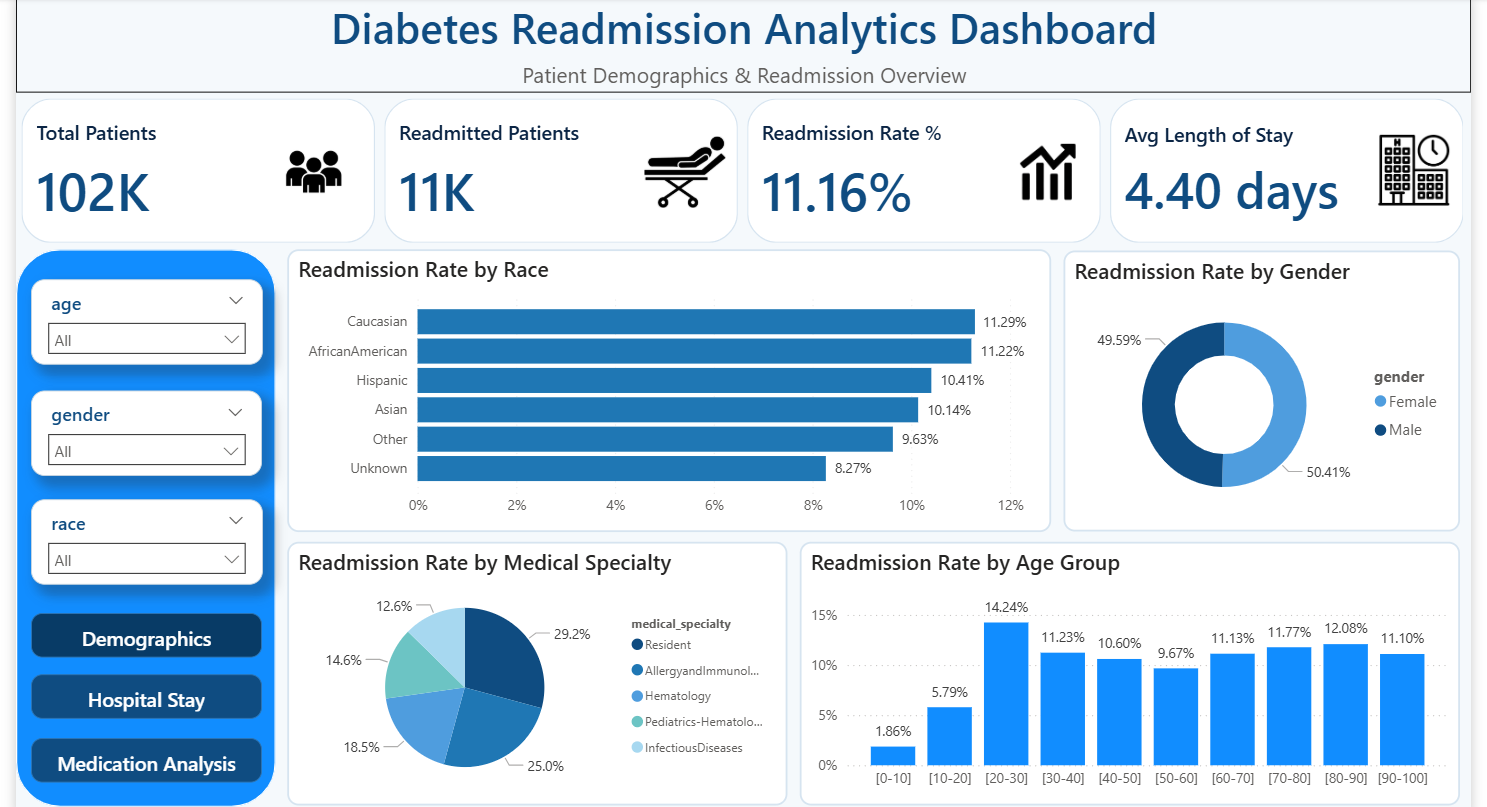

The page's visual inventory and layout, read from the dashboard file:
{"tool":"powerbi","page":{"name":"Demographics","canvas":[1280,720],"ordinal":0},"visuals":[{"type":"textbox","title":"Diabetes Readmission Analytics Dashboard","box":[0,0,1279.9,83.6],"z":0},{"type":"cardVisual","fields":{"Data":["diabetes_readmission.Total Patients","diabetes_readmission.Readmitted Patients","diabetes_readmission.Readmission Rate %","diabetes_readmission.Avg Length of Stay (Display)"]},"box":[0,83.6,1279.9,137.4],"z":1000},{"type":"clusteredColumnChart","title":"Readmission Rate by Age Group ","fields":{"Category":["diabetes_readmission.age"],"Y":["diabetes_readmission.Readmission Rate %"]},"box":[689.4,478.3,580.6,232],"z":2000},{"type":"barChart","title":"Readmission Rate by Race","fields":{"Y":["diabetes_readmission.Readmission Rate %"],"Category":["diabetes_readmission.race"]},"box":[238.8,220.7,672.4,249.1],"z":3000},{"type":"donutChart","title":"Readmission Rate by Gender","fields":{"Category":["diabetes_readmission.gender"],"Y":["diabetes_readmission.Readmission Rate %"]},"box":[921.4,222.1,348.6,247.4],"z":4000},{"type":"pieChart","title":"Readmission Rate  by Medical Specialty","fields":{"Category":["diabetes_readmission.medical_specialty"],"Y":["diabetes_readmission.Readmission Rate %"]},"box":[238.8,478.8,440.1,232.3],"z":5000},{"type":"shape","box":[0,220.7,228.4,490.4],"z":6000},{"type":"slicer","fields":{"Values":["diabetes_readmission.age"]},"box":[12.9,247.8,203.9,74.9],"z":7000},{"type":"slicer","fields":{"Values":["diabetes_readmission.gender"]},"box":[13.3,345,203.4,75.1],"z":8000},{"type":"slicer","fields":{"Values":["diabetes_readmission.race"]},"box":[12.9,441.4,203.9,74.9],"z":9000},{"type":"actionButton","box":[13.2,541,203.4,39.6],"z":10000},{"type":"actionButton","box":[13.2,650.9,203.4,39.6],"z":11000},{"type":"actionButton","box":[13.2,594.9,203.4,39.6],"z":12000}]}

Visuals, with their boxes on the page's 1280x720 design canvas (x1, y1, x2, y2). These are canvas units, not pixel positions in the 1487x807 screenshot, which may show the page scaled, cropped or inside an application window:
"Diabetes Readmission Analytics Dashboard" textbox: BBox(0, 0, 1280, 84)
cardVisual - diabetes_readmission.Total Patients x diabetes_readmission.Readmitted Patients: BBox(0, 84, 1280, 221)
"Readmission Rate by Age Group " clusteredColumnChart: BBox(689, 478, 1270, 710)
"Readmission Rate by Race" barChart: BBox(239, 221, 911, 470)
"Readmission Rate by Gender" donutChart: BBox(921, 222, 1270, 470)
"Readmission Rate  by Medical Specialty" pieChart: BBox(239, 479, 679, 711)
shape: BBox(0, 221, 228, 711)
slicer - diabetes_readmission.age: BBox(13, 248, 217, 323)
slicer - diabetes_readmission.gender: BBox(13, 345, 217, 420)
slicer - diabetes_readmission.race: BBox(13, 441, 217, 516)
actionButton: BBox(13, 541, 217, 581)
actionButton: BBox(13, 651, 217, 690)
actionButton: BBox(13, 595, 217, 634)
